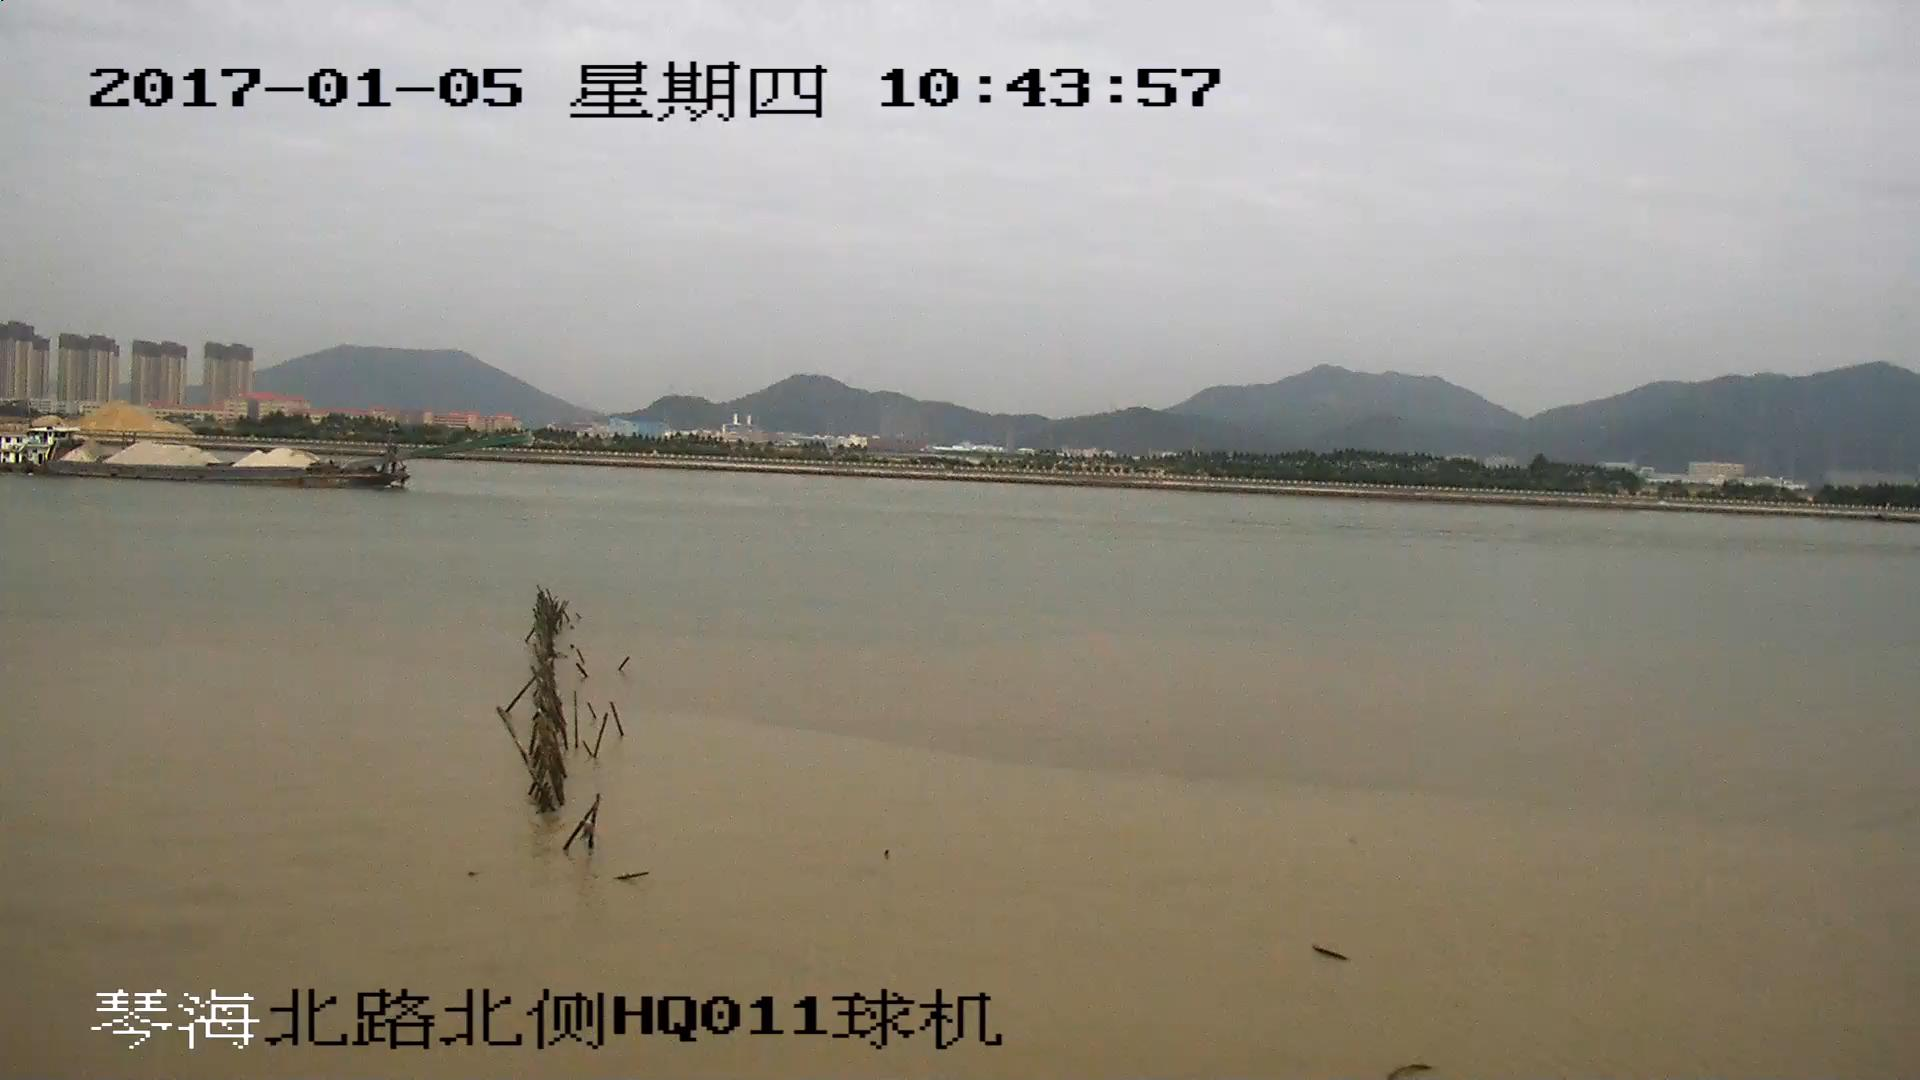ore carrier: (1, 434, 528, 490)
